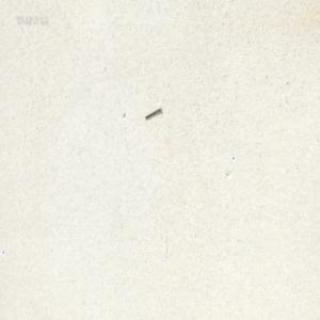Bolttrack_idkeyframe: (143, 104, 160, 118)
